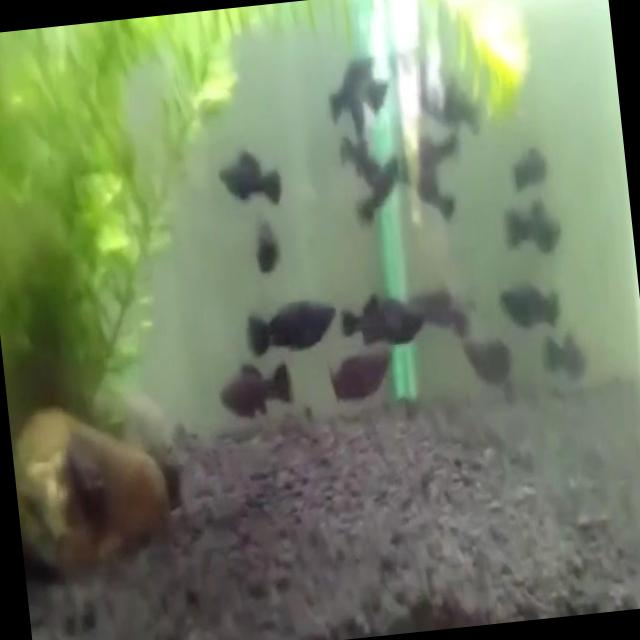PlatyFish: (204, 344, 300, 427), (236, 294, 345, 364), (332, 278, 429, 346), (210, 143, 289, 210), (327, 344, 402, 411)
